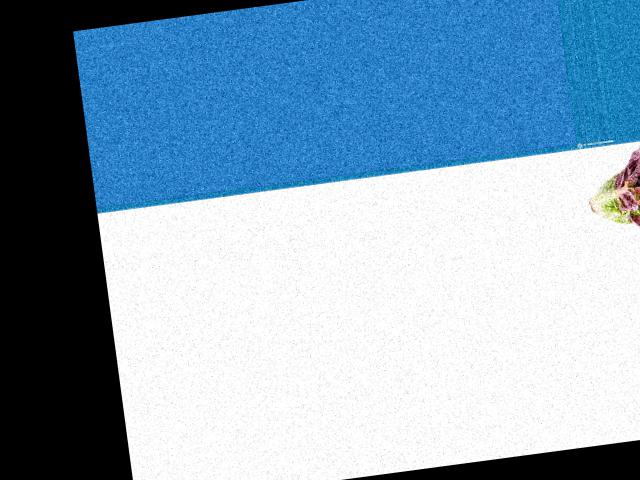lettuce: (581, 140, 640, 238)
